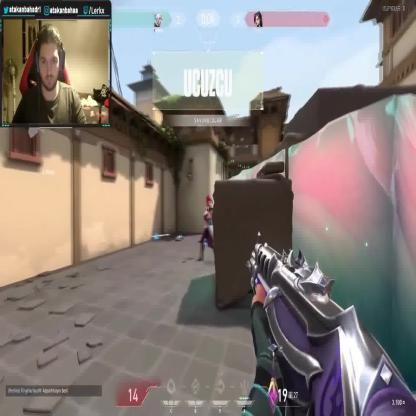enemy: (197, 193, 222, 262)
enemy_head: (205, 194, 213, 209)
